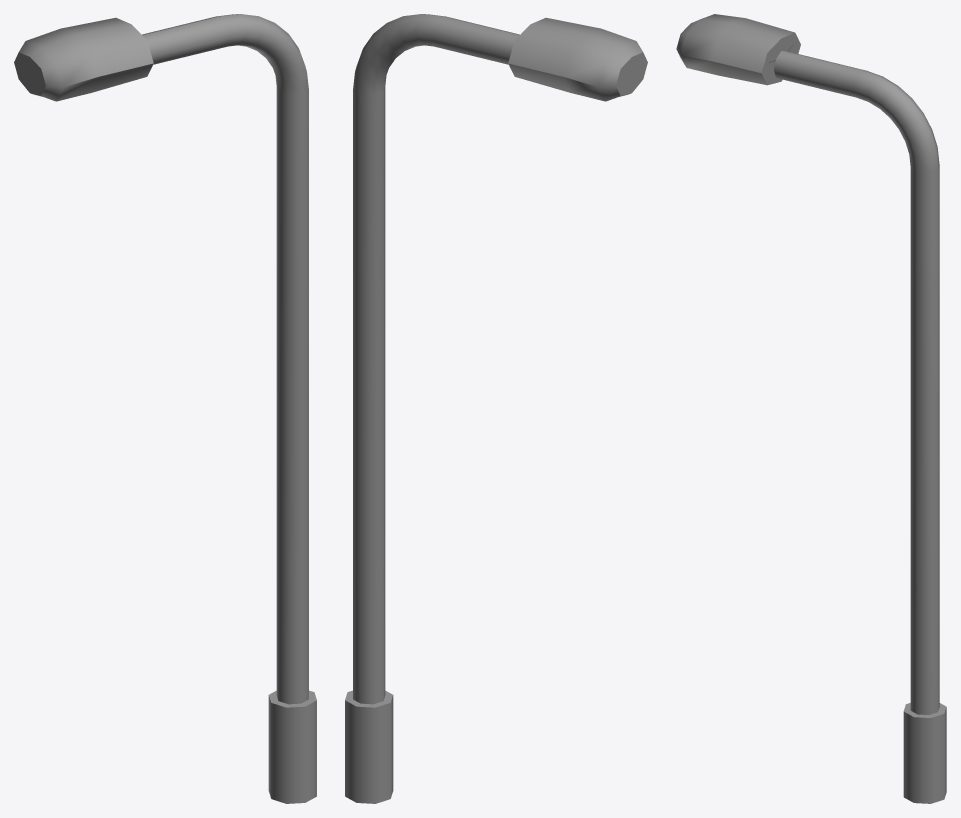
File: streetLamp.glb
The picture shows the model from 3 angles, left to right: view 1: azimuth 30°, elevation 25°; view 2: azimuth 150°, elevation 25°; view 3: azimuth 330°, elevation 25°; orthographic projection. The views are drawn at different scales.
Visible parts, largest first — view 1: Circle.005_11; view 2: Circle.005_11; view 3: Circle.005_11.
Part boxes in pixels (x1,y1,x2,y2): Circle.005_11: [14, 14, 316, 803]; Circle.005_11: [345, 14, 647, 803]; Circle.005_11: [676, 14, 946, 803].
Bounding box in the file's own units: 8.52 × 23.23 × 2.29.
Materials: 2 (1 with a texture image).
